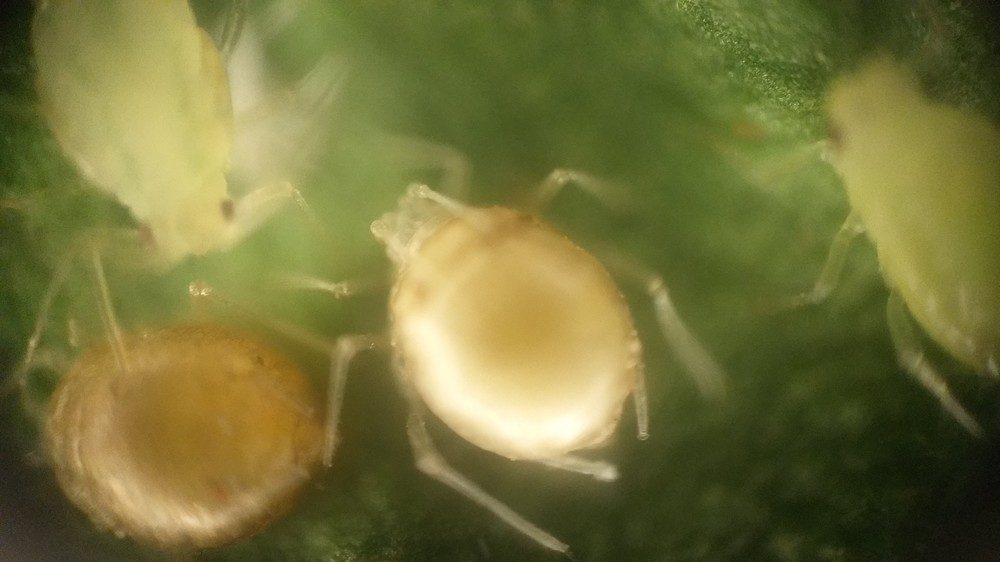Pulgon: (298, 161, 762, 554), (738, 37, 1000, 457), (11, 2, 352, 318), (17, 274, 398, 552)
